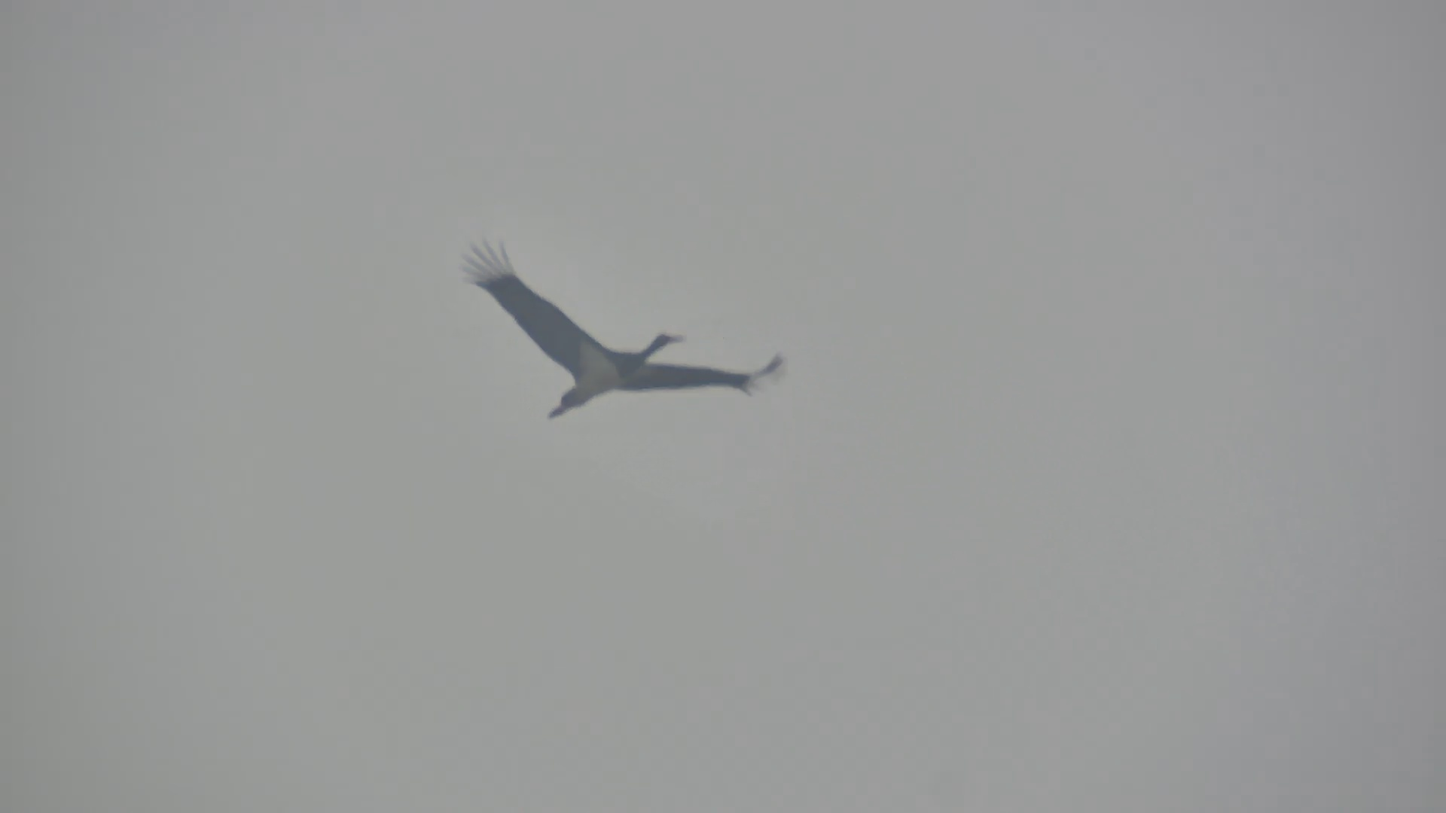Stork: (456, 238, 792, 420)
